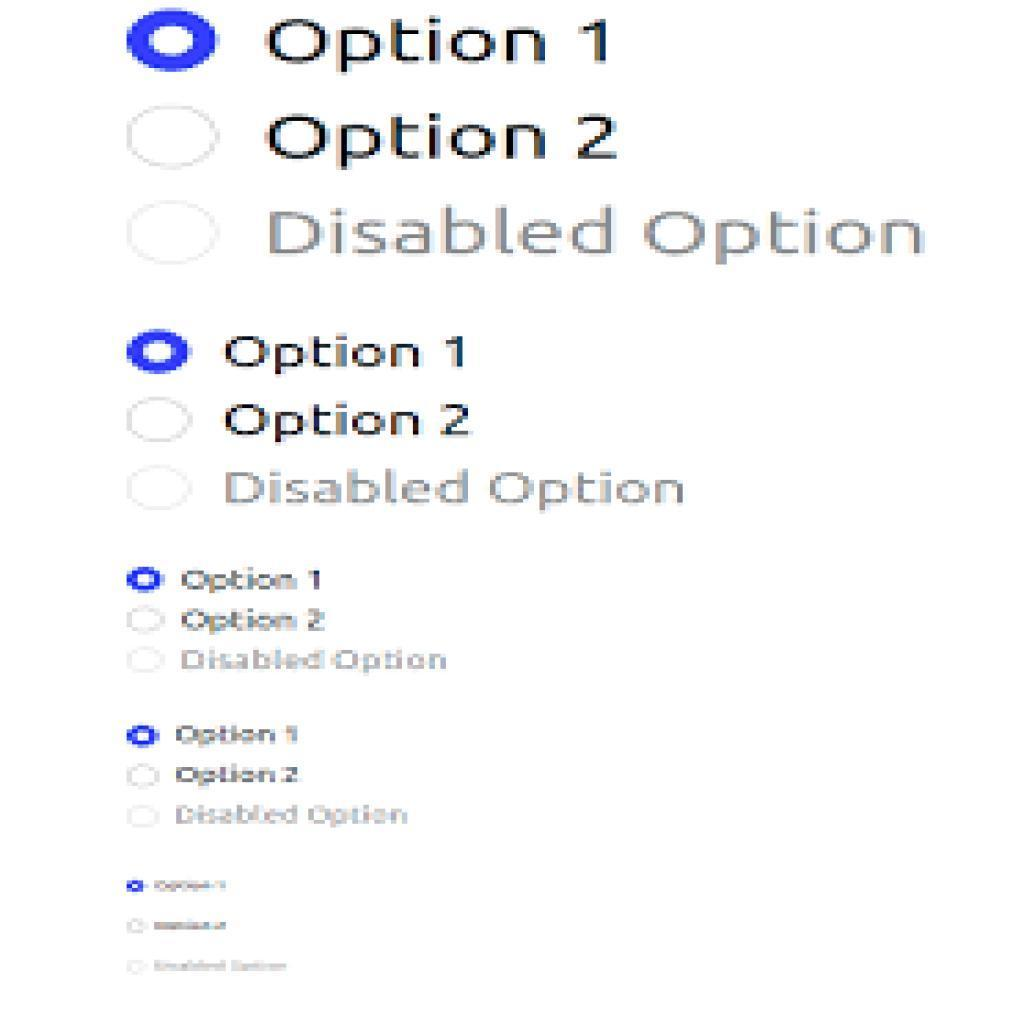label: (266, 198, 927, 272), (265, 103, 631, 176), (223, 464, 685, 514), (264, 9, 615, 73), (223, 394, 480, 440), (218, 335, 466, 371), (181, 646, 450, 677), (173, 800, 414, 833), (183, 604, 331, 635), (183, 566, 325, 597), (176, 719, 303, 750), (179, 760, 307, 788), (154, 957, 292, 977), (154, 874, 232, 902), (155, 919, 239, 935)
radio: (126, 104, 224, 177), (124, 9, 228, 77), (125, 202, 218, 268), (126, 461, 195, 518), (122, 325, 195, 377), (123, 396, 193, 448), (127, 644, 167, 677), (125, 567, 167, 596), (126, 607, 166, 635), (127, 723, 165, 752), (126, 763, 163, 792), (127, 804, 160, 834), (123, 953, 149, 982), (127, 916, 150, 939), (124, 879, 150, 897)
